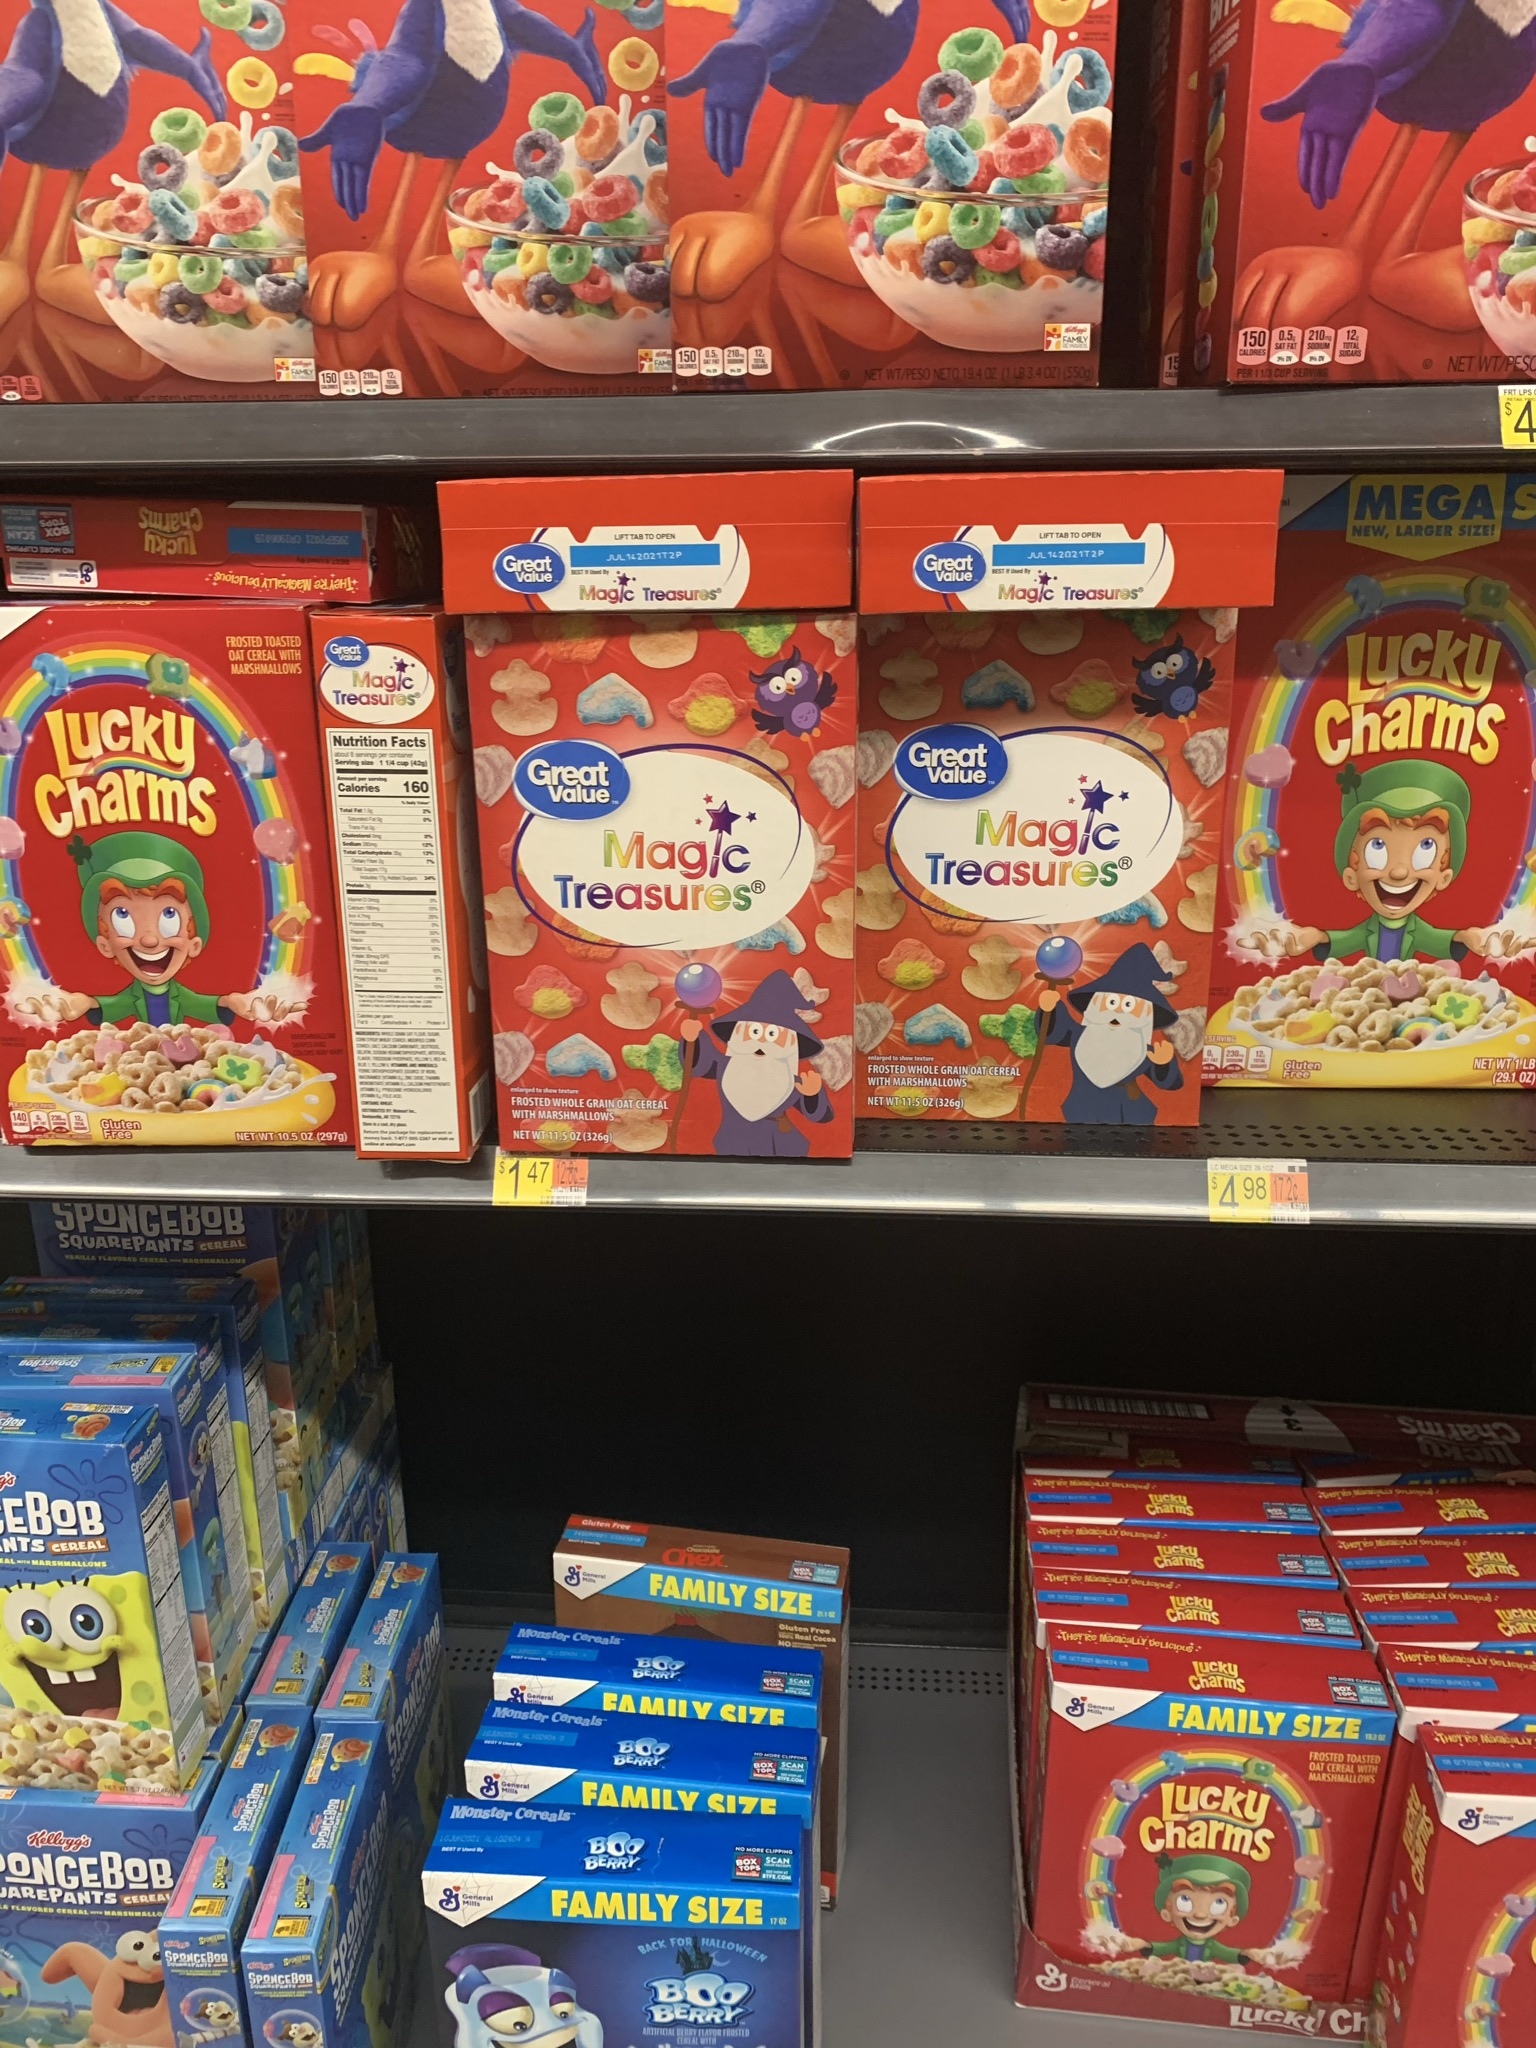box: (487, 643, 844, 1147), (670, 2, 1096, 377), (870, 656, 1197, 1130), (6, 622, 295, 1135), (303, 2, 662, 376), (1257, 614, 1536, 1076), (2, 2, 278, 387), (1037, 1698, 1376, 2001), (353, 635, 453, 1164), (2, 1458, 131, 1787), (2, 1879, 163, 2048), (582, 1522, 844, 1608), (252, 1942, 324, 2048)
